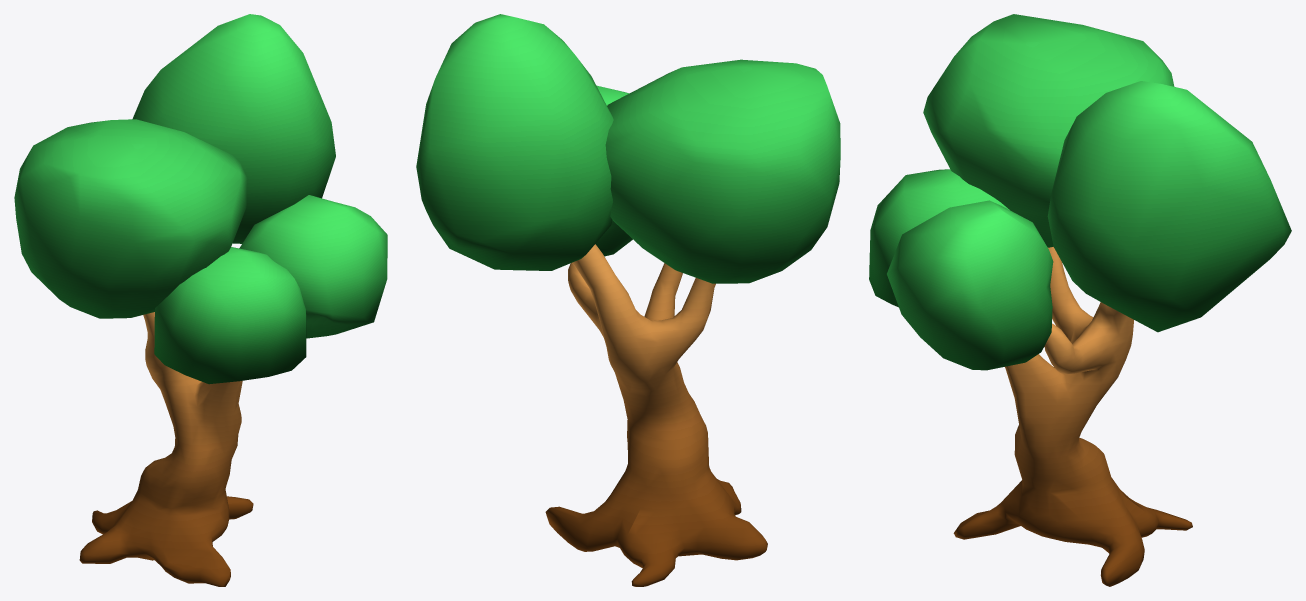
Rendered from Tree1.fbx.
The picture shows the model from 3 angles, left to right: view 1: azimuth 30°, elevation 25°; view 2: azimuth 150°, elevation 25°; view 3: azimuth 270°, elevation 25°; orthographic projection. The views are drawn at different scales.
Visible parts, largest first — view 1: Leaves1.002, Leaves2.002, Tree1.001, Leaves4, Leaves3.001; view 2: Leaves1.002, Leaves2.002, Tree1.001, Leaves3.001; view 3: Leaves2.002, Leaves1.002, Tree1.001, Leaves3.001, Leaves4.
Part boxes in pixels (x1=…): Leaves1.002: x1=14, y1=119, x2=246, y2=318; Leaves2.002: x1=132, y1=14, x2=335, y2=243; Tree1.001: x1=79, y1=312, x2=253, y2=586; Leaves4: x1=154, y1=247, x2=306, y2=384; Leaves3.001: x1=239, y1=195, x2=387, y2=338; Leaves1.002: x1=605, y1=59, x2=840, y2=283; Leaves2.002: x1=416, y1=14, x2=613, y2=270; Tree1.001: x1=545, y1=244, x2=767, y2=586; Leaves3.001: x1=595, y1=85, x2=632, y2=256; Leaves2.002: x1=1047, y1=81, x2=1291, y2=332; Leaves1.002: x1=923, y1=14, x2=1174, y2=247; Tree1.001: x1=953, y1=247, x2=1192, y2=586; Leaves3.001: x1=887, y1=200, x2=1053, y2=370; Leaves4: x1=869, y1=169, x2=1009, y2=307.
Size of the model in its own units: 18.71 by 19.12 by 26.11.
